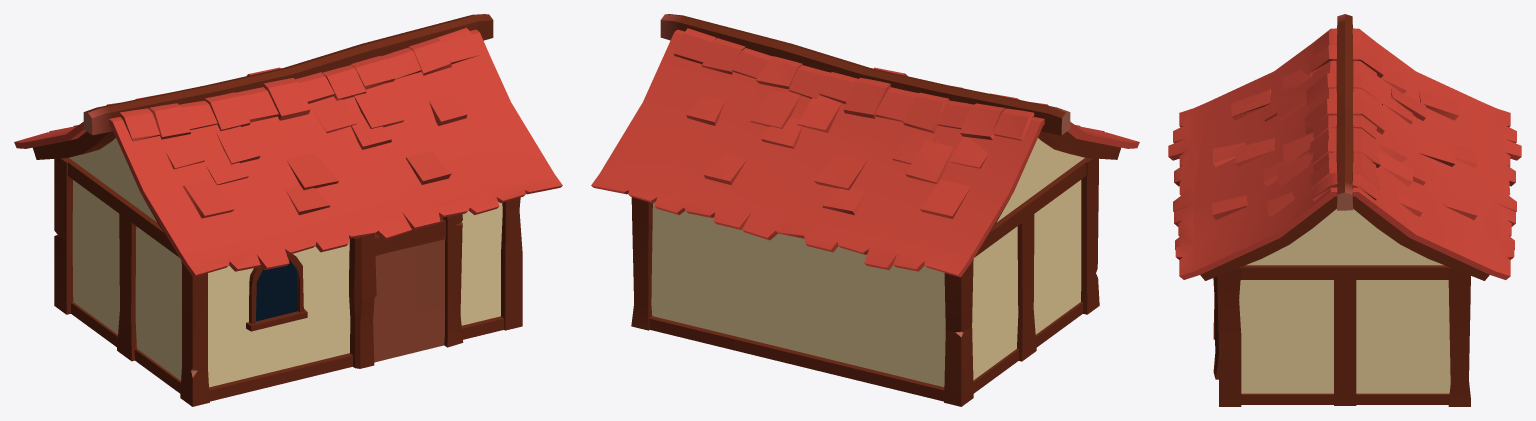
The model's file is SM_Base_Building_LODS_Group.fbx.
3 views of the same model, side by side, from view 1: azimuth 30°, elevation 25°; view 2: azimuth 150°, elevation 25°; view 3: azimuth 270°, elevation 25° (orthographic). The views are drawn at different scales.
Visible parts, largest first — view 1: SM_Base_Building_LOD0; view 2: SM_Base_Building_LOD0; view 3: SM_Base_Building_LOD0.
Boxes of the visible parts, left/top/right/bottom form: SM_Base_Building_LOD0: left=14, top=14, right=562, bottom=406; SM_Base_Building_LOD0: left=591, top=14, right=1139, bottom=406; SM_Base_Building_LOD0: left=1168, top=14, right=1521, bottom=406.
Bounding box in the file's own units: 332 × 277 × 202.
